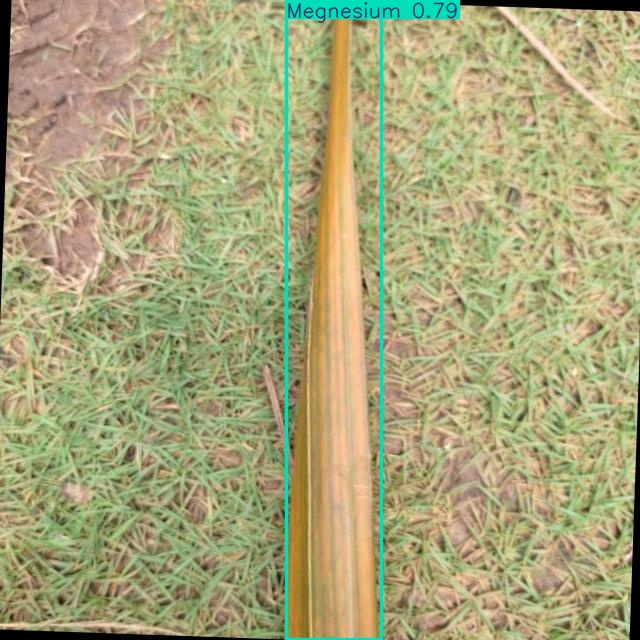Megnesium: (287, 1, 382, 639)
